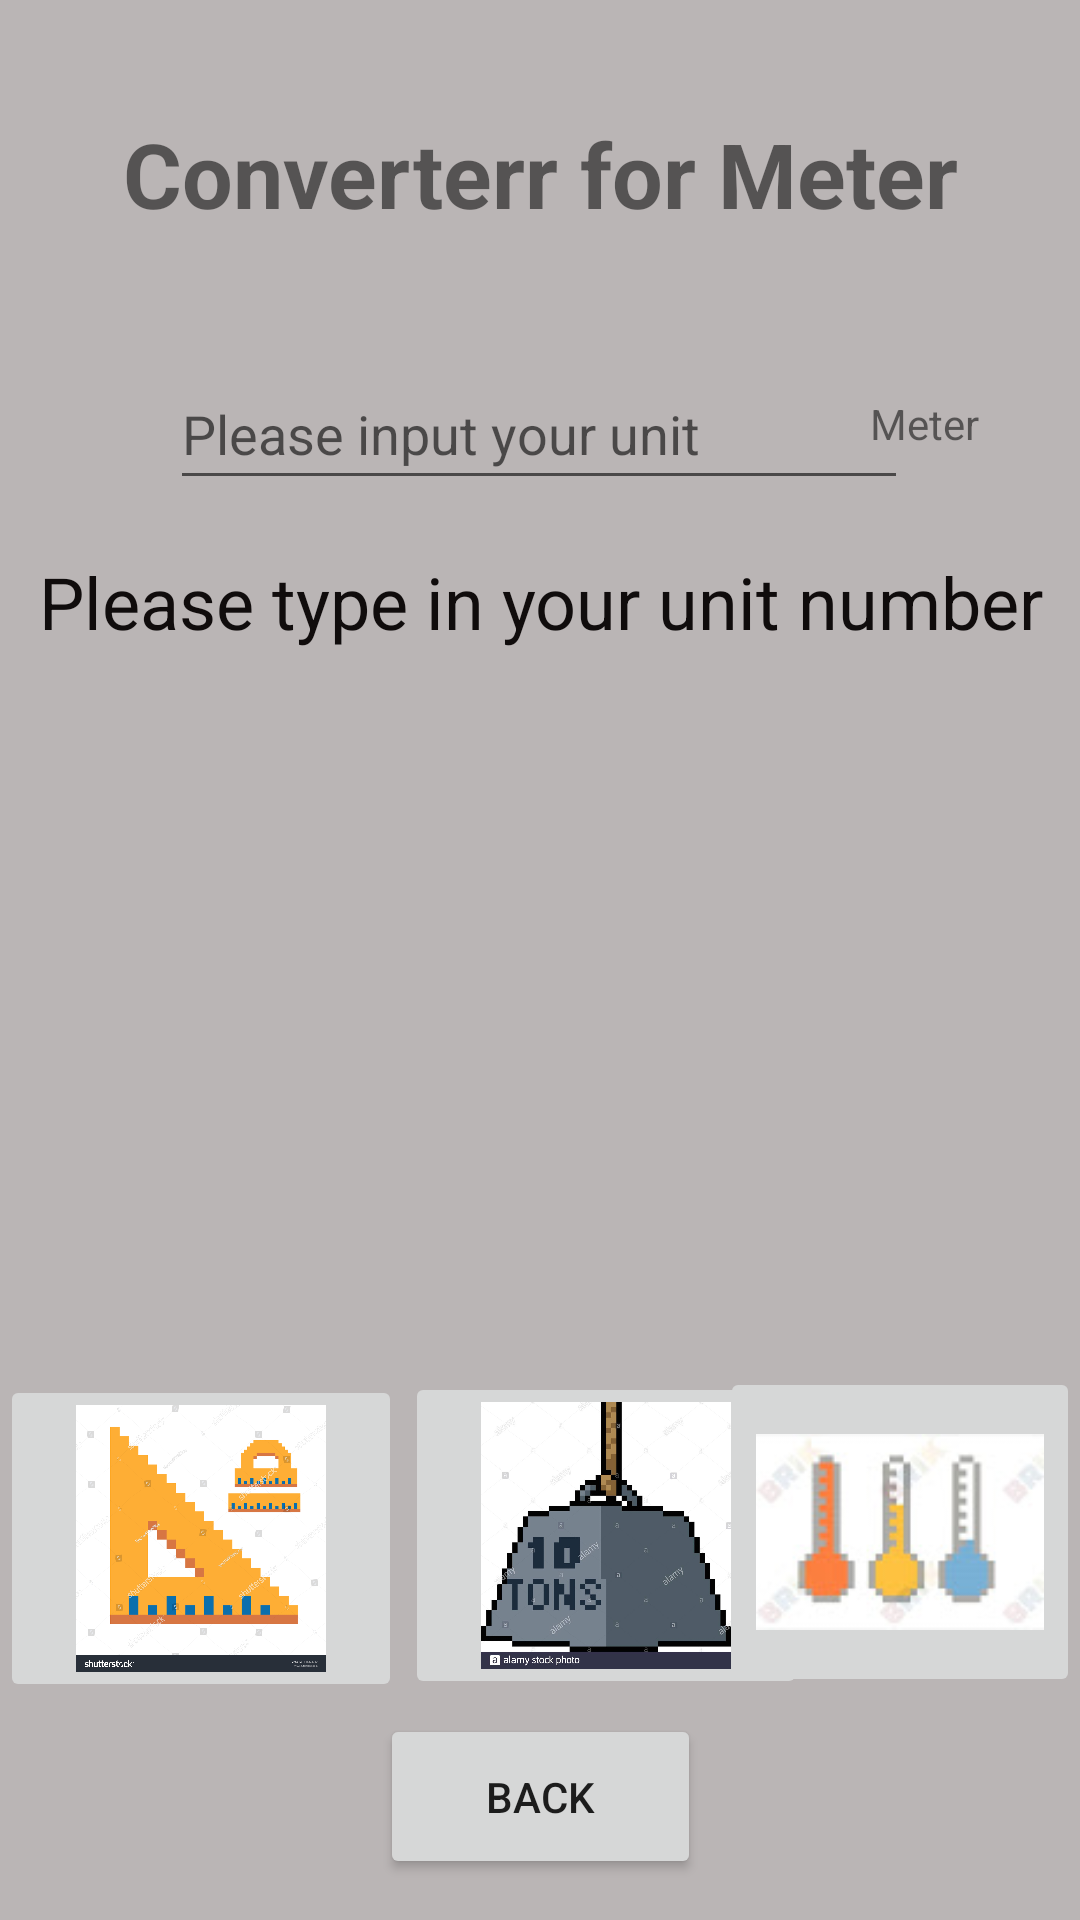

Screen size 1080px x 1920px. Icon name, then its center in pixels as (x=x, y=y):
temperature: (x=894, y=1533)
